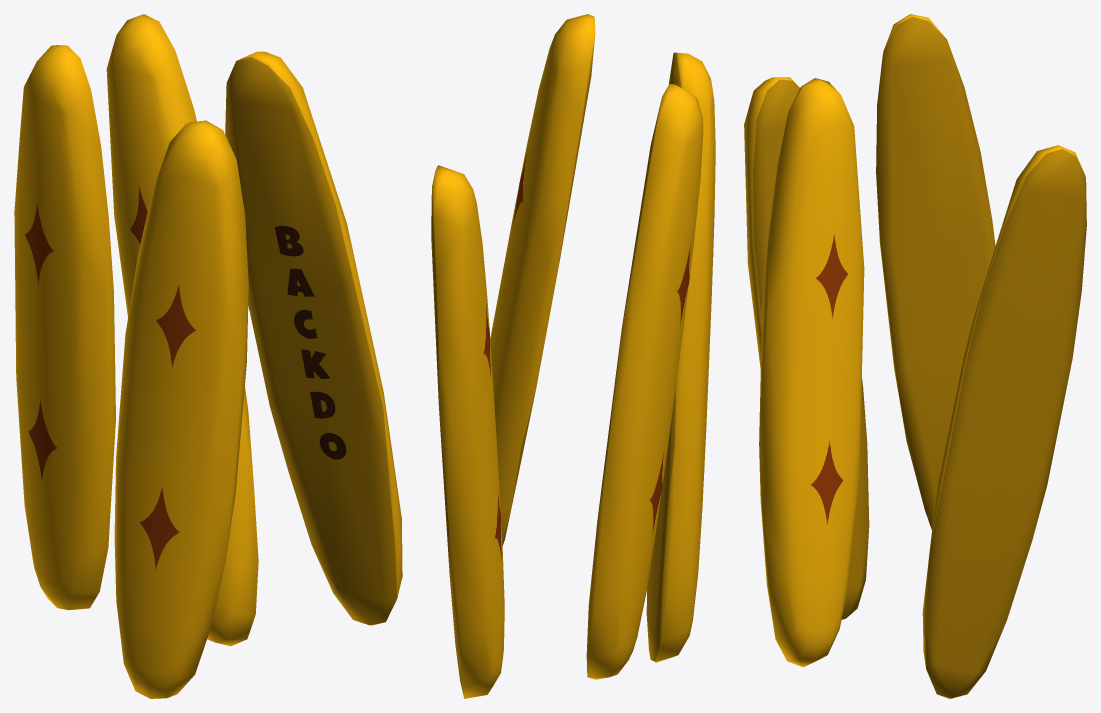
The model's file is yoot-animated.glb.
The picture shows the model from 3 angles, left to right: view 1: azimuth 30°, elevation 25°; view 2: azimuth 150°, elevation 25°; view 3: azimuth 270°, elevation 25°; orthographic projection. The views are drawn at different scales.
Parts seen in each view (by area): view 1: yoot1, yoot0, yoot2, yoot3; view 2: yoot2, yoot3, yoot0, yoot1; view 3: yoot3, yoot0, yoot2, yoot1.
Part boxes in pixels (x1,y1,x2,y2): yoot1: (114, 120, 248, 698); yoot0: (225, 51, 402, 625); yoot2: (14, 45, 115, 610); yoot3: (106, 14, 258, 646); yoot2: (586, 83, 703, 679); yoot3: (431, 165, 504, 698); yoot0: (490, 14, 595, 545); yoot1: (646, 52, 715, 662); yoot3: (922, 145, 1086, 698); yoot0: (759, 78, 864, 667); yoot2: (876, 14, 995, 529); yoot1: (744, 77, 869, 619).
Size of the model in its own units: 6.57 by 13.74 by 7.1.
4 materials, 4 textured.
